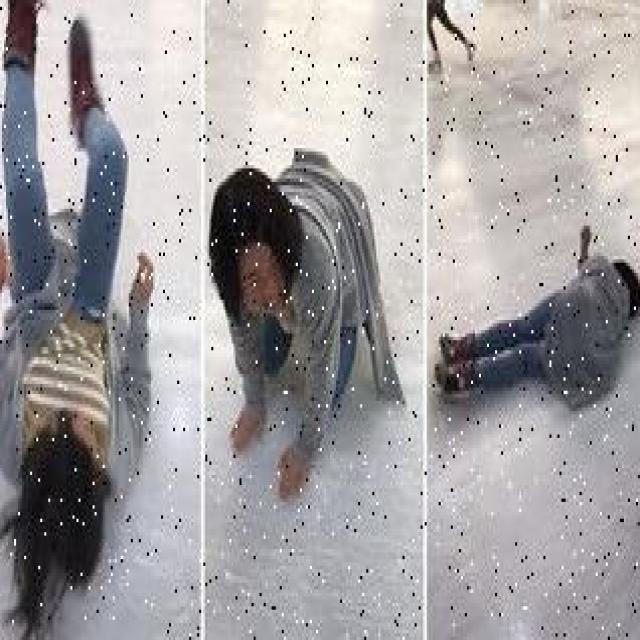fall: (2, 10, 155, 606), (224, 144, 390, 496), (439, 229, 634, 408)
